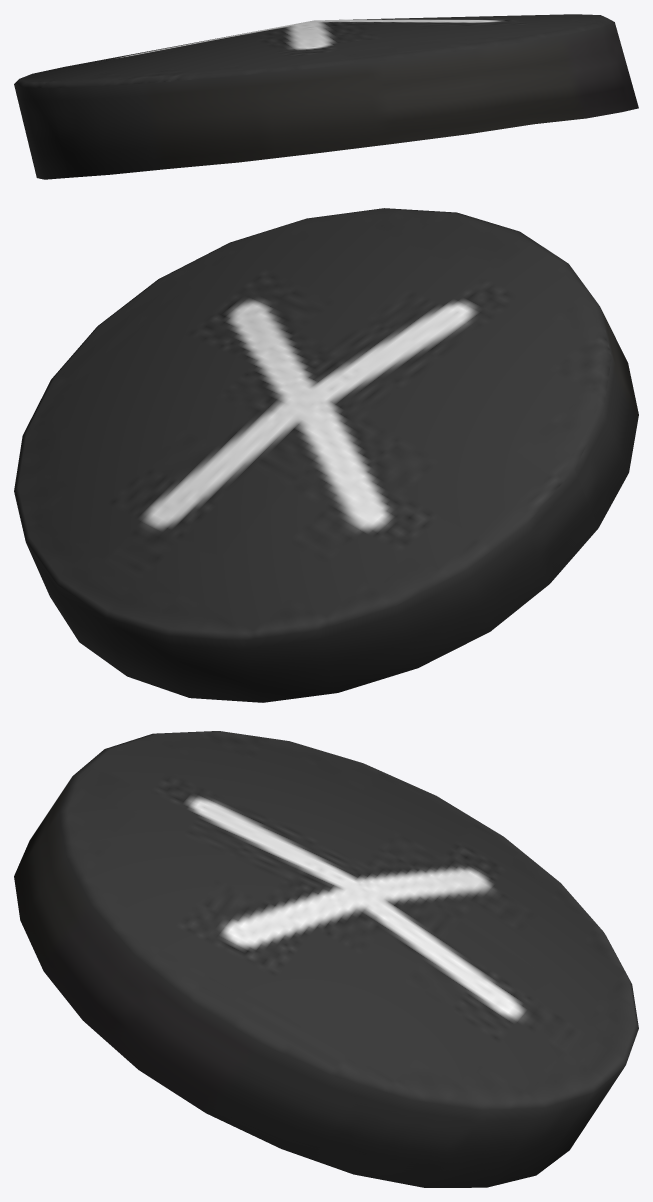
3 renders of one model, top to bottom at view 1: azimuth 30°, elevation 25°; view 2: azimuth 150°, elevation 25°; view 3: azimuth 270°, elevation 25°, orthographic. The views are drawn at different scales.
Bounding box in the file's own units: 0.0107 × 0.00575 × 0.0107.
1 material, 1 textured.
